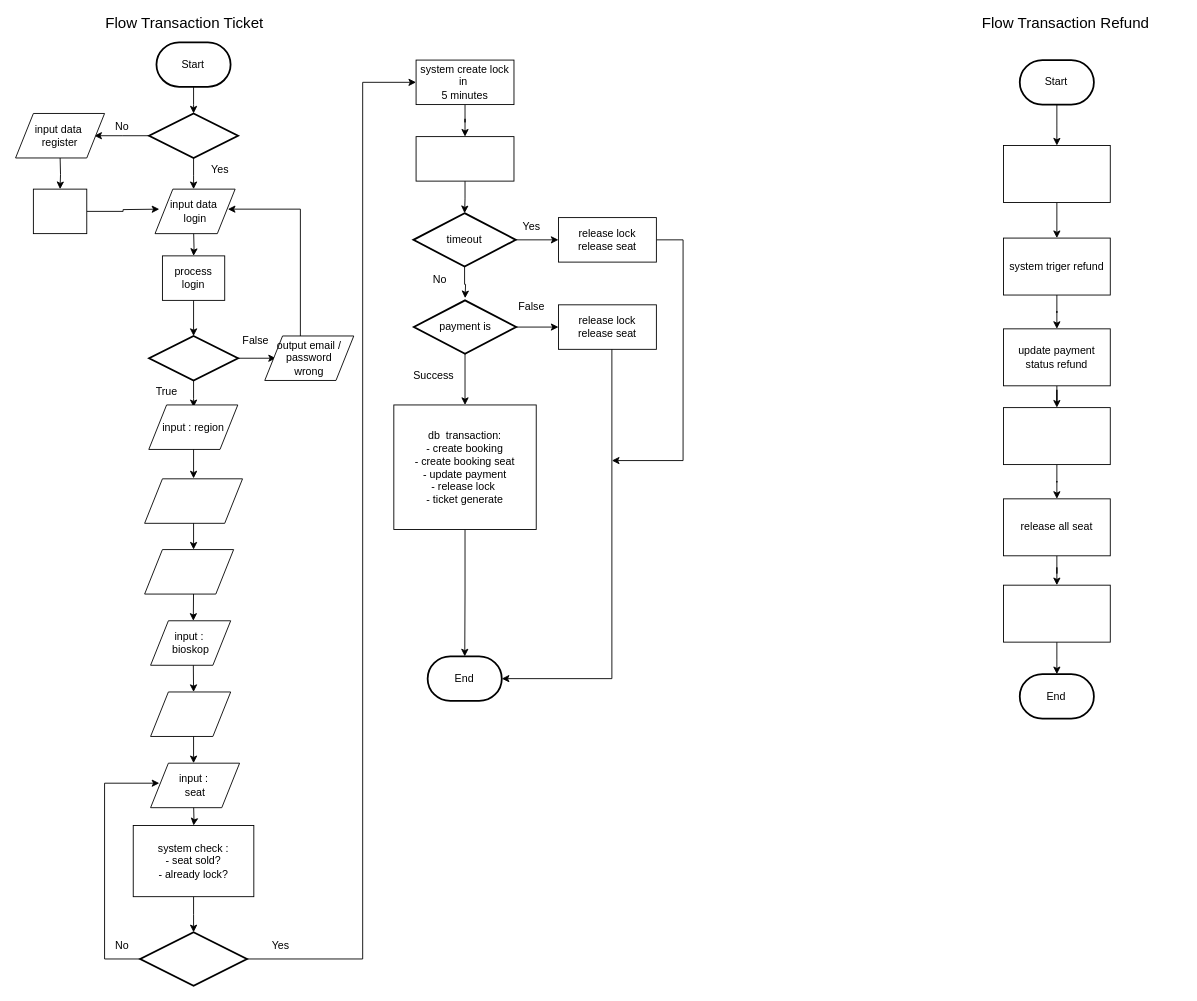
The diagram is 1197 pixels wide and 1001 high, and some of its shapes have lost their labels. The shapes that lost their labels are listed below. From the top down, each one's centre as x and y in pixels, then its label:
(x=193, y=135): Already account
(x=464, y=158): user payment
(x=1056, y=173): system get all bookings related to that schedule
(x=59, y=211): process register
(x=193, y=358): email & assword
(x=1056, y=436): update booking status refund
(x=193, y=500): input : city
(x=189, y=571): input : film
(x=1056, y=613): send notification
(x=190, y=713): input : schedule
(x=193, y=958): seat availble
